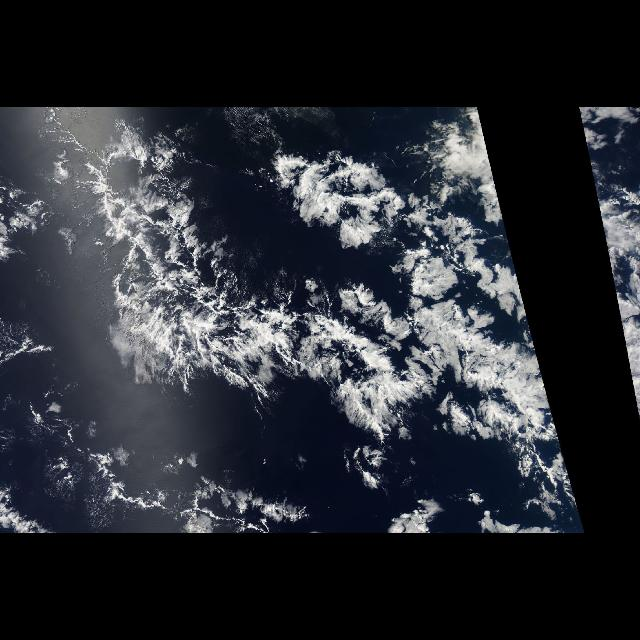Fish: (53, 119, 570, 471), (580, 119, 640, 424)
Flower: (236, 116, 528, 320), (578, 116, 640, 316)
